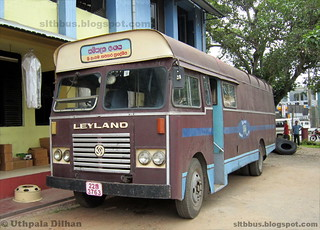bus: (47, 29, 276, 220)
